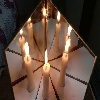fire: (45, 49, 49, 70)
